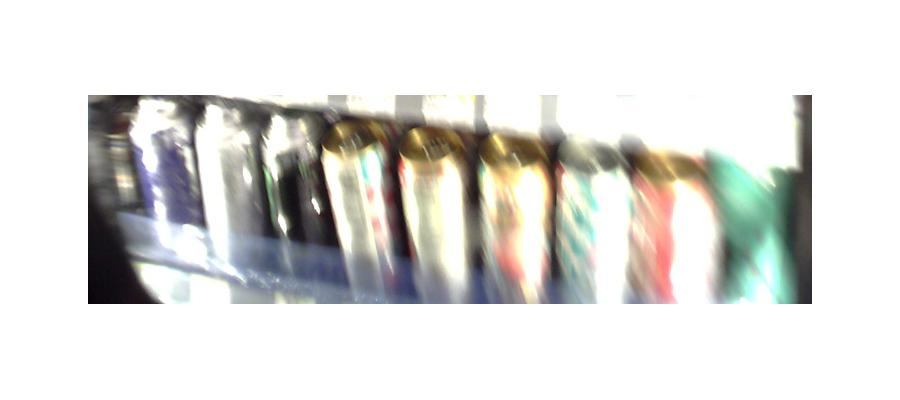bottle: (620, 134, 727, 309), (197, 105, 282, 282), (324, 117, 400, 305), (477, 123, 555, 301), (398, 126, 474, 303), (557, 129, 629, 303), (712, 151, 795, 299), (256, 110, 325, 284), (132, 100, 199, 261)
